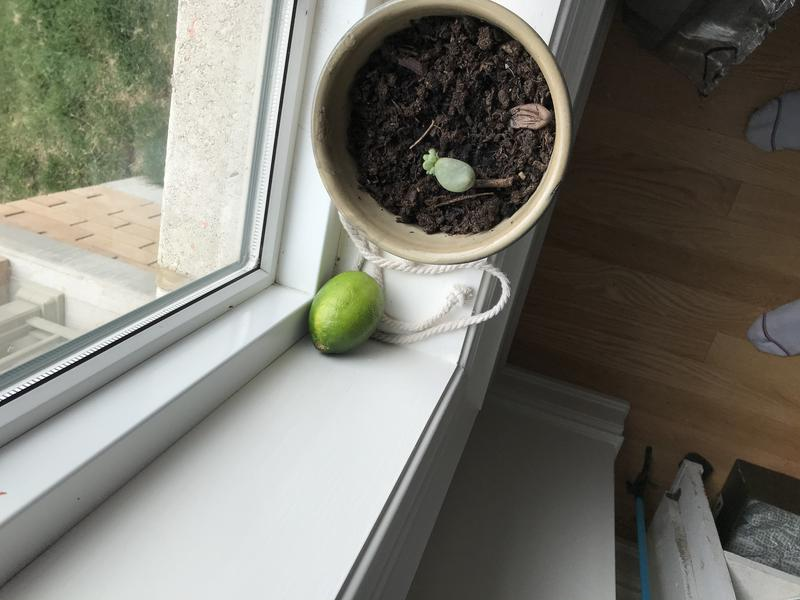lime: (297, 262, 396, 369)
